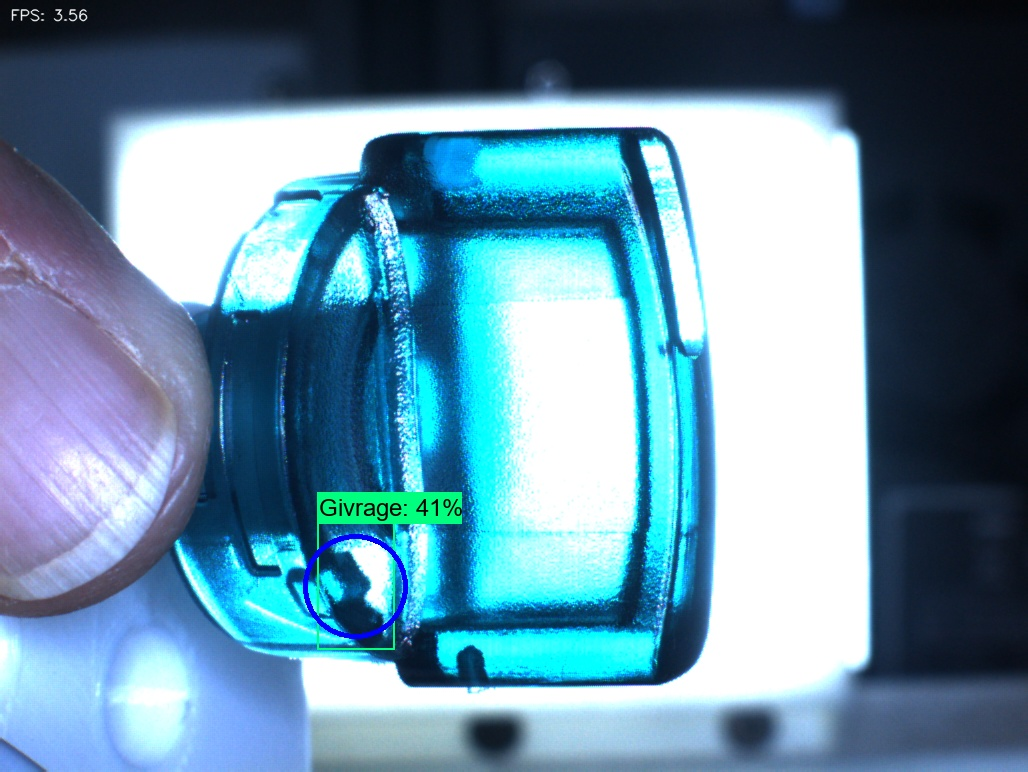Bulle: (431, 615, 512, 709)
